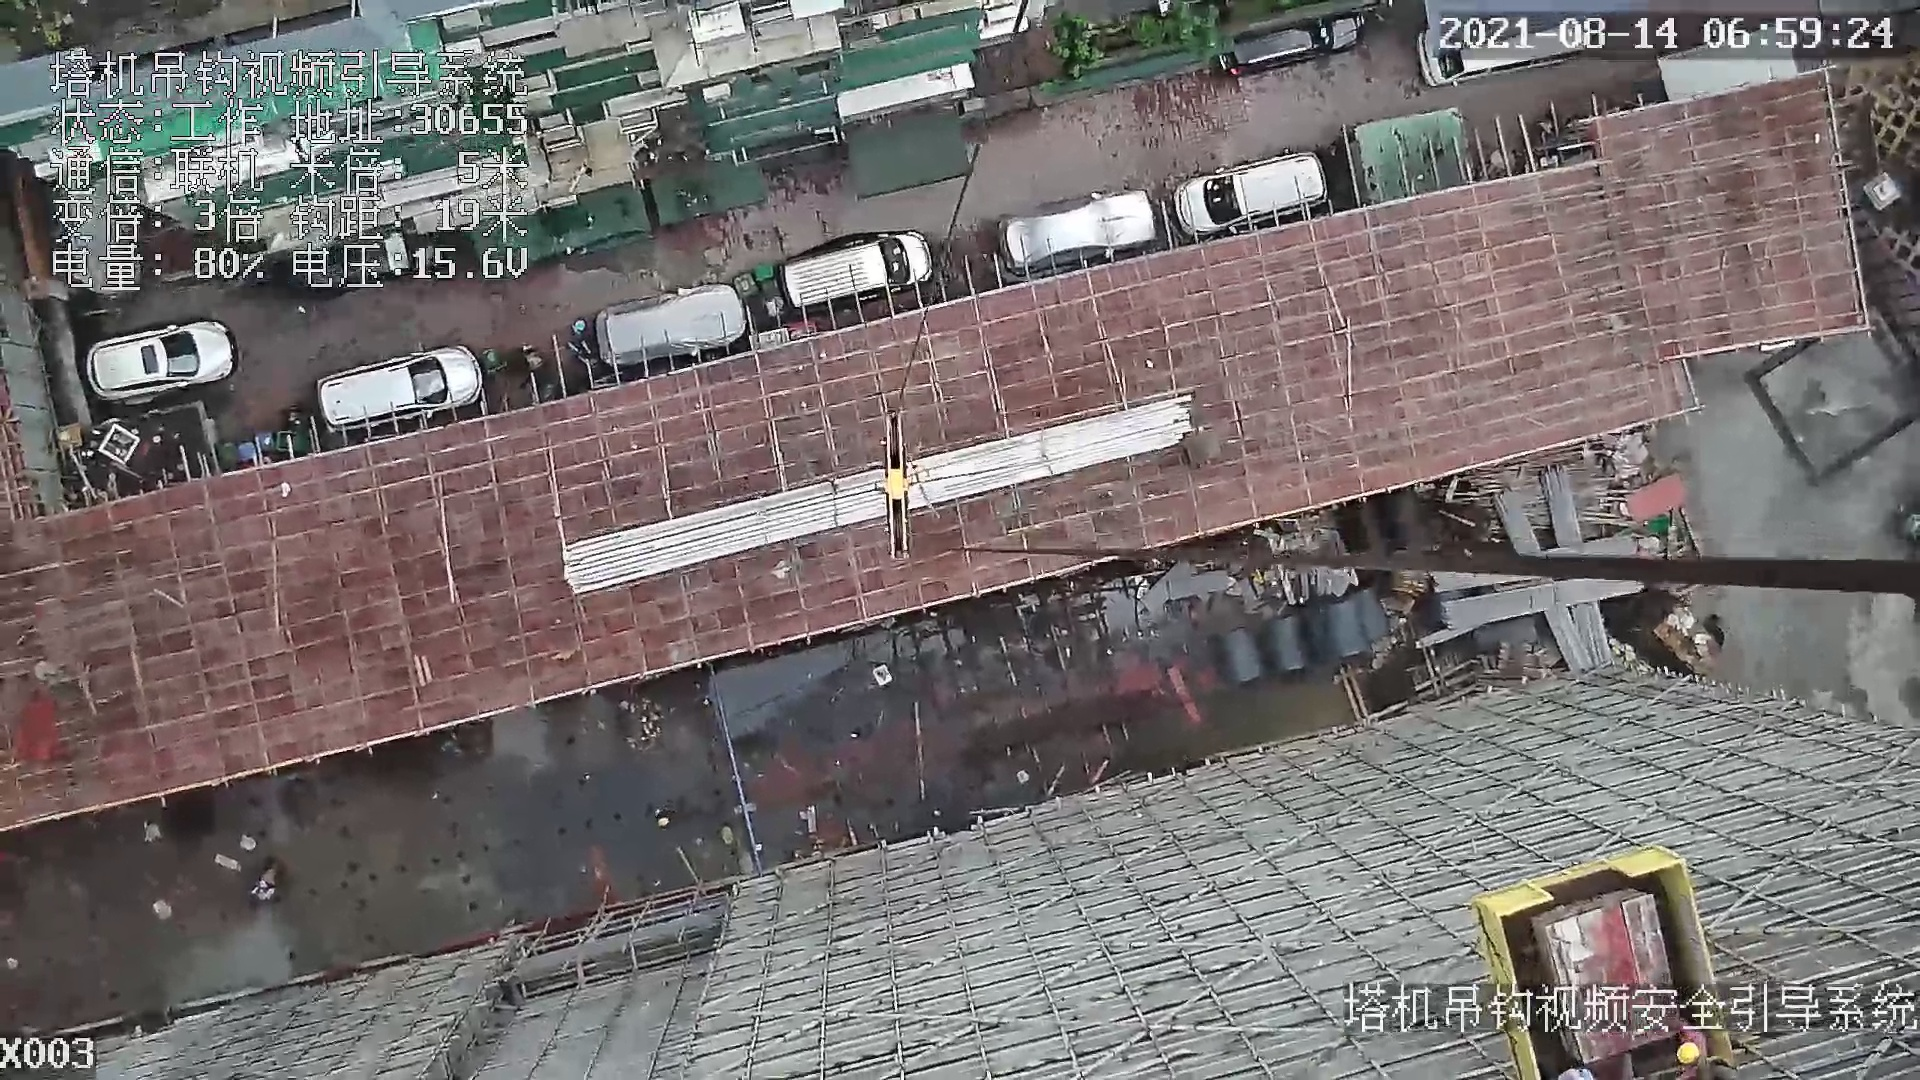board: (1531, 887, 1673, 986)
hook: (869, 410, 928, 564)
rebar: (562, 397, 1192, 596), (1494, 495, 1593, 671), (1540, 468, 1610, 665), (1443, 579, 1644, 629)
